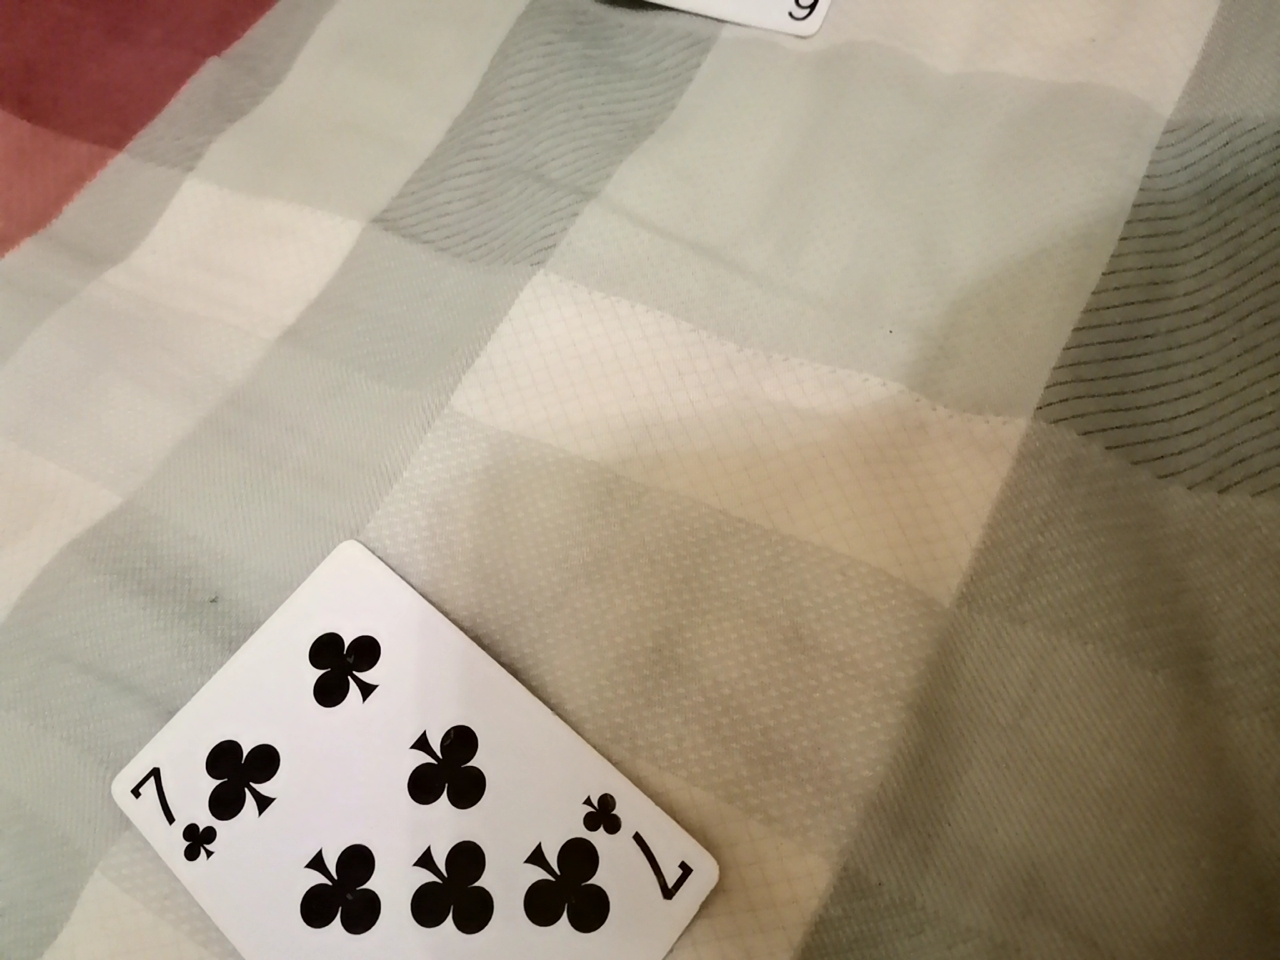mh 7: (97, 554, 726, 950)
